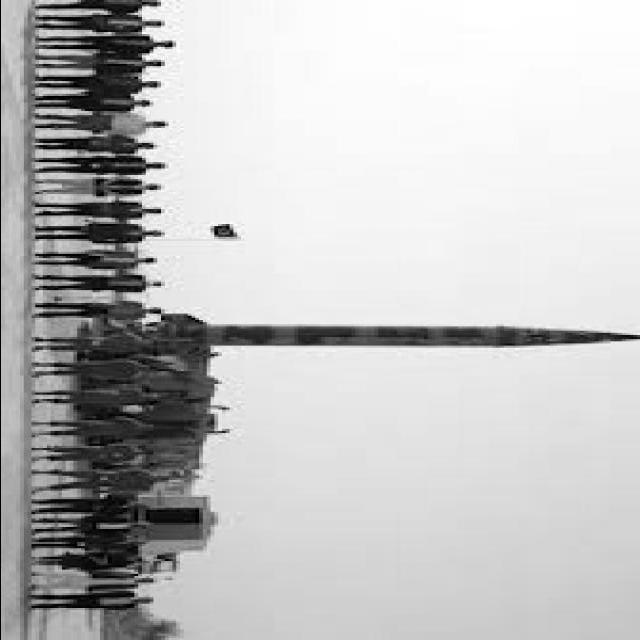Missile: (201, 311, 638, 355)
